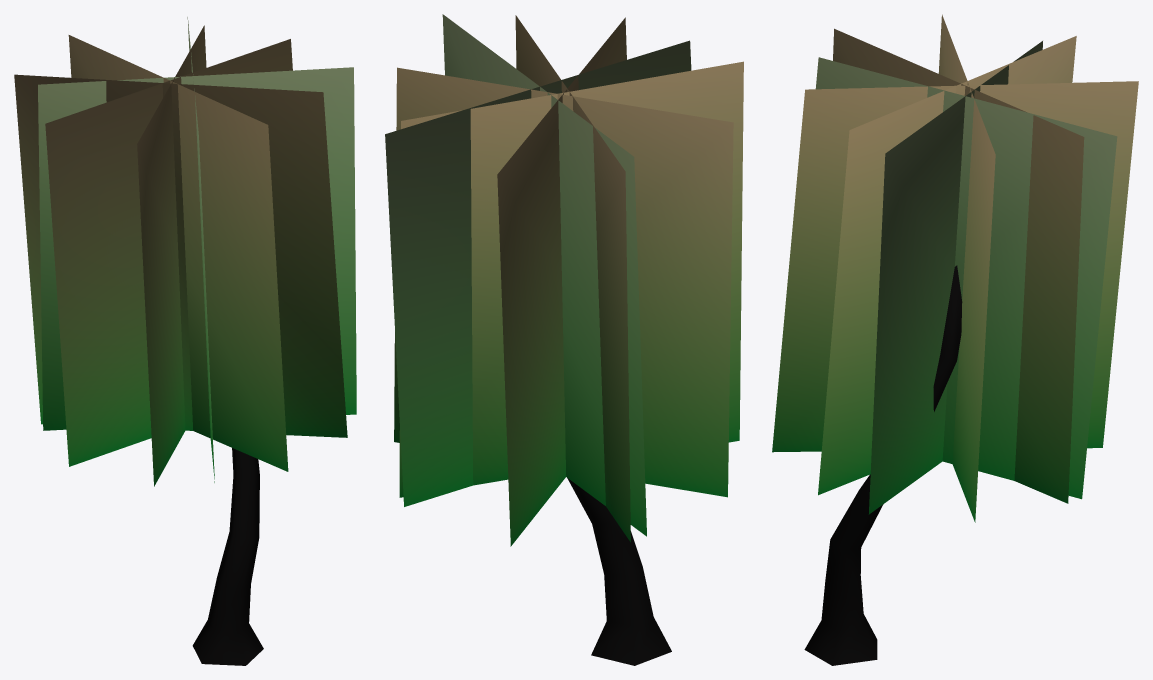
File: Super_Palm_8.fbx
3 views of the same model, side by side, from view 1: azimuth 30°, elevation 25°; view 2: azimuth 150°, elevation 25°; view 3: azimuth 270°, elevation 25° (orthographic). The views are drawn at different scales.
Visible parts, largest first — view 1: Tree_8; view 2: Tree_8; view 3: Tree_8.
Part boxes in pixels (x1,y1,x2,y2): Tree_8: [14, 17, 356, 665]; Tree_8: [385, 14, 743, 665]; Tree_8: [772, 14, 1138, 665].
Size of the model in its own units: 541 by 978 by 568.
